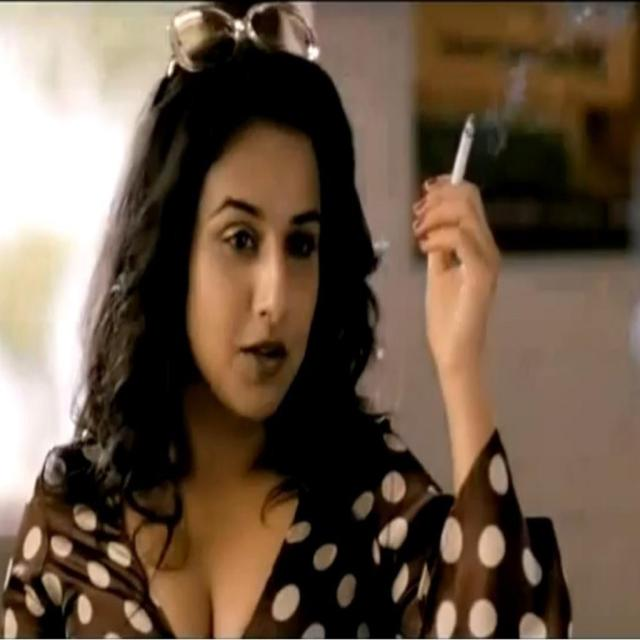smoking: (378, 79, 546, 239)
